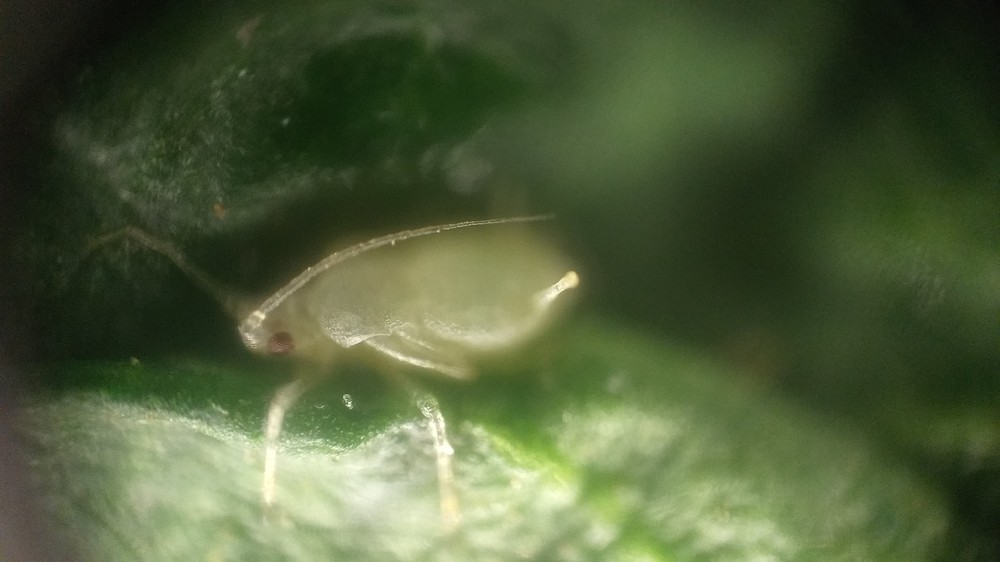Pulgon: (97, 160, 663, 534)
